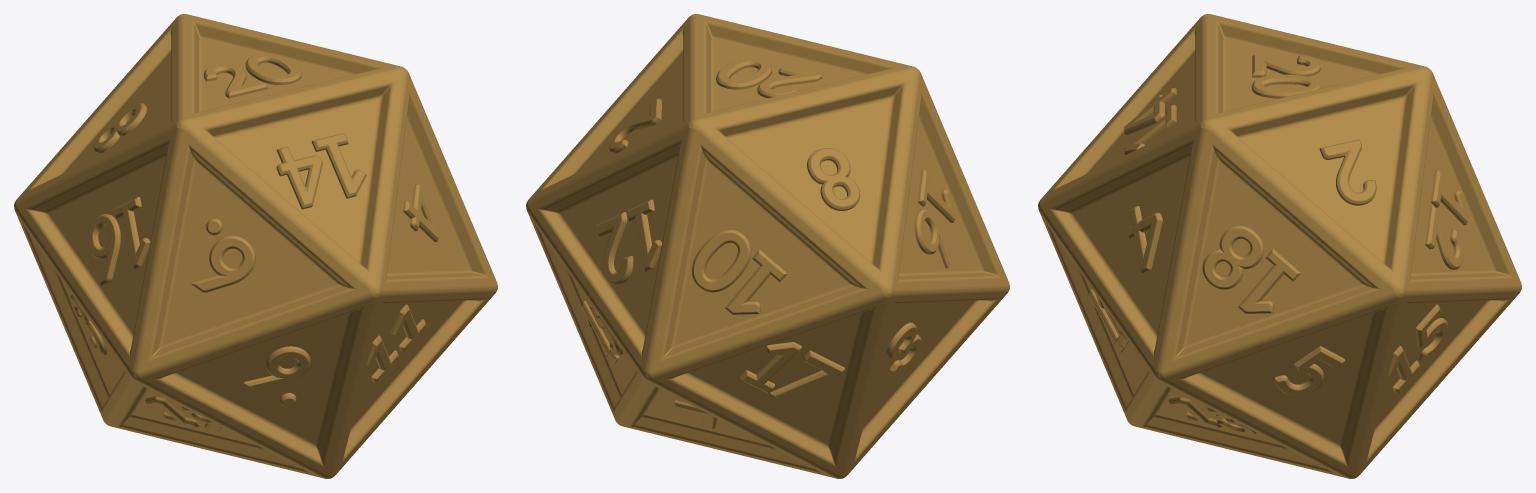
3 views of the same model, side by side, from view 1: azimuth 30°, elevation 25°; view 2: azimuth 150°, elevation 25°; view 3: azimuth 270°, elevation 25° (orthographic).
Visible parts, largest first — view 1: Solid.012; view 2: Solid.012; view 3: Solid.012.
Part boxes in pixels (bbox=[...]): Solid.012: bbox=[14, 14, 497, 478]; Solid.012: bbox=[526, 14, 1009, 478]; Solid.012: bbox=[1038, 14, 1521, 478].
Bounding box in the file's own units: 1.7 × 1.59 × 1.94.
